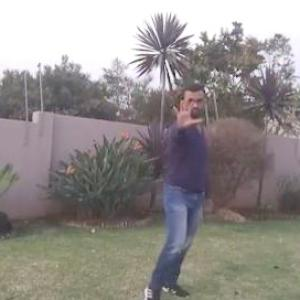follow_hand: (170, 89, 205, 129)
